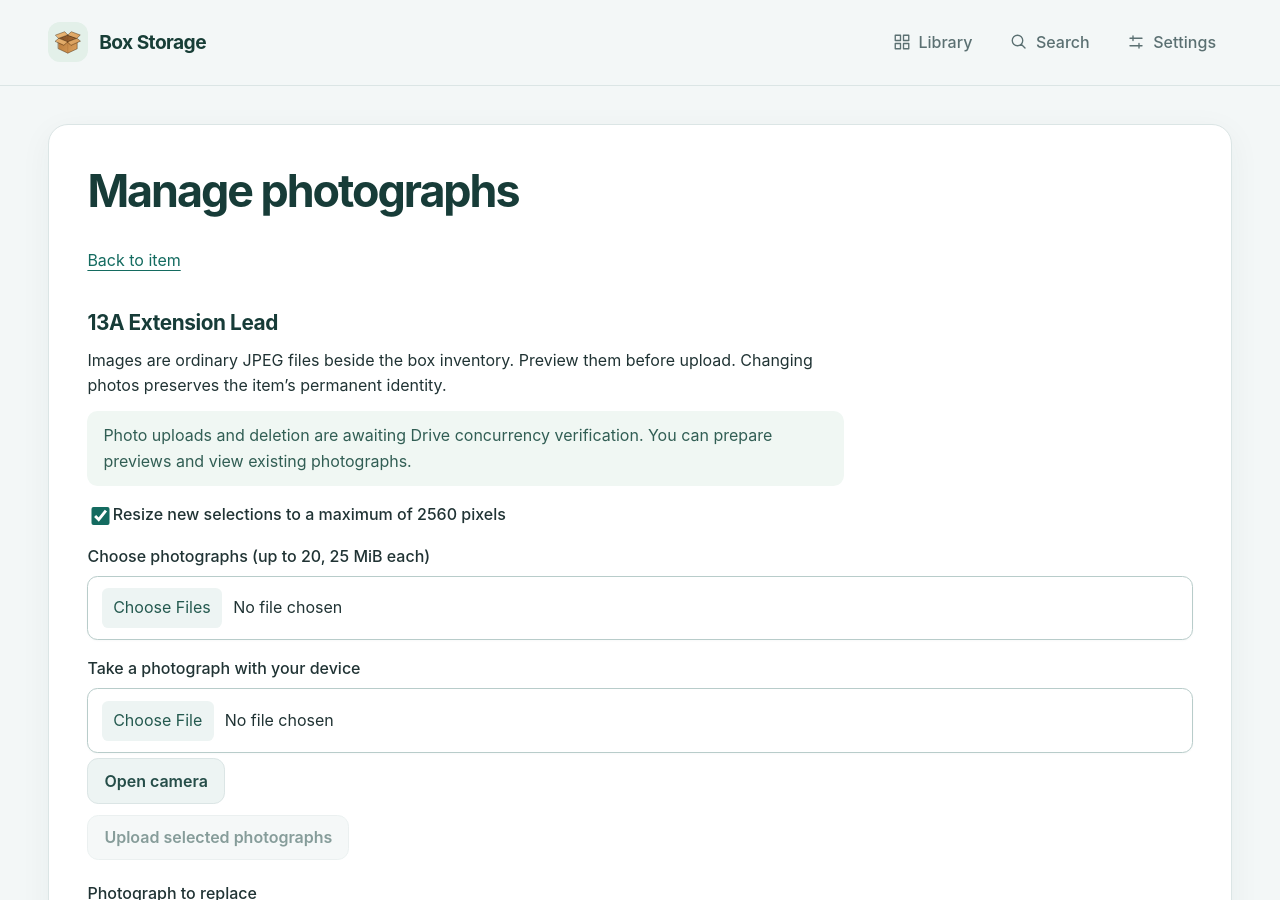
Scenario: photograph controls › reports camera denial and keeps file selection usable
Expected: the heading "13A Extension Lead" is shown, [87,310,278,335]
Click the button "Open camera" at (156, 781), box [87,758,225,804]
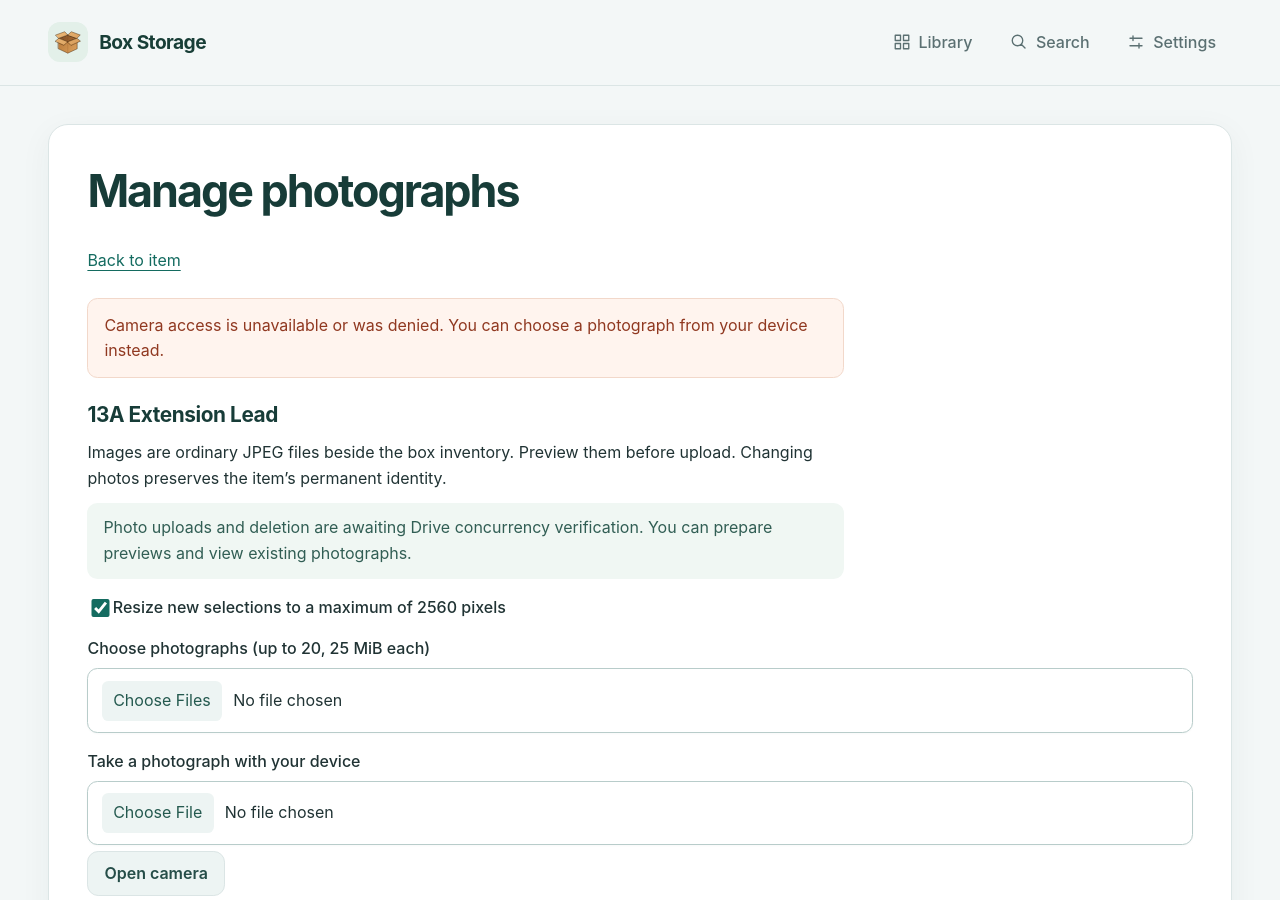
Expected: the file field labelled "Choose photographs (up to 20, 25 MiB each)" is enabled, [87,668,1193,733]
Result: the 1st message shows "Camera access is unavailable or was denied" at [104,314,808,360]
